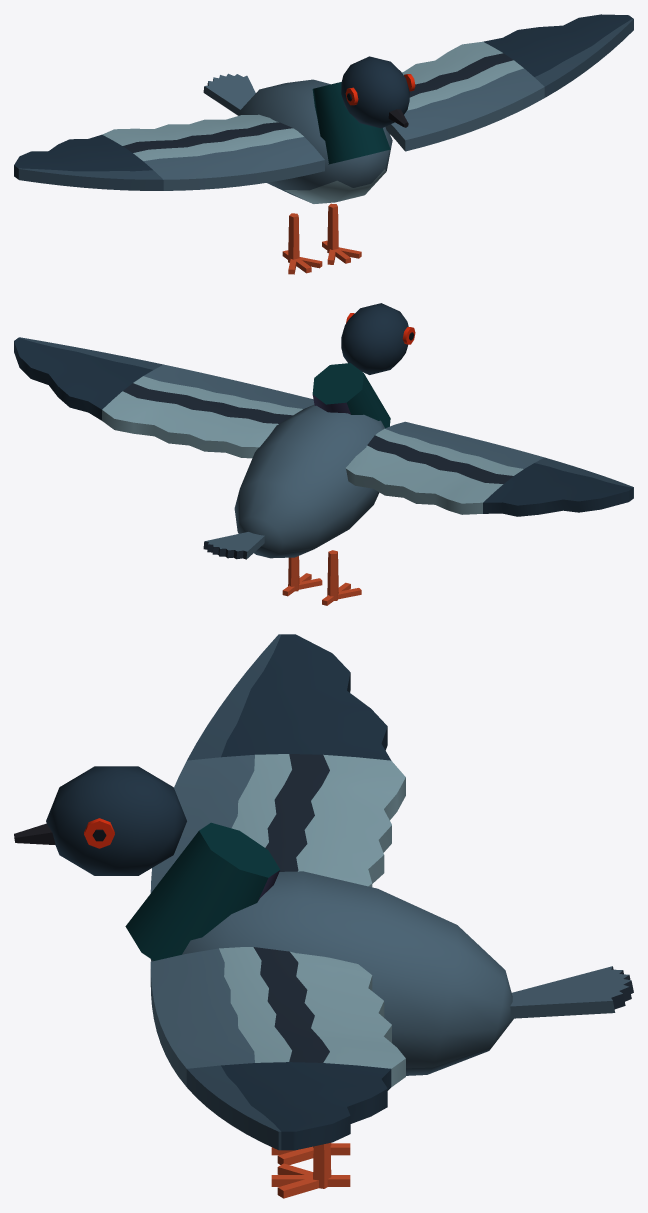
File: Guvercin.fbx
3 views of the same model, one above another, from view 1: azimuth 30°, elevation 25°; view 2: azimuth 150°, elevation 25°; view 3: azimuth 270°, elevation 25° (orthographic). The views are drawn at different scales.
Visible parts, largest first — view 1: Guvercin_Govde, Kanat_Sag, Kanat_Sol; view 2: Guvercin_Govde, Kanat_Sol, Kanat_Sag; view 3: Guvercin_Govde, Kanat_Sol, Kanat_Sag.
Boxes of the visible parts, <box> form: Guvercin_Govde: <box>203,56,415,274</box>; Kanat_Sag: <box>14,114,324,190</box>; Kanat_Sol: <box>385,14,633,151</box>; Guvercin_Govde: <box>203,303,415,605</box>; Kanat_Sol: <box>14,337,314,458</box>; Kanat_Sag: <box>345,421,633,516</box>; Guvercin_Govde: <box>14,766,633,1198</box>; Kanat_Sol: <box>150,947,405,1150</box>; Kanat_Sag: <box>150,634,405,892</box>.
Size of the model in its own units: 0.69 by 0.2592 by 0.3635.
